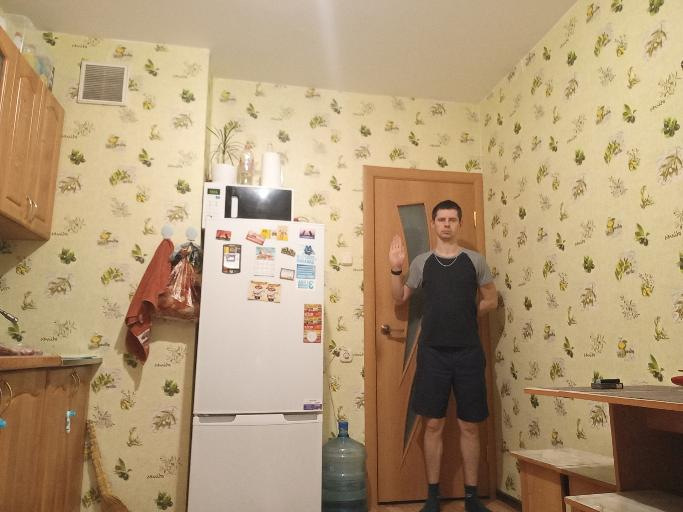stop: (386, 231, 407, 271)
